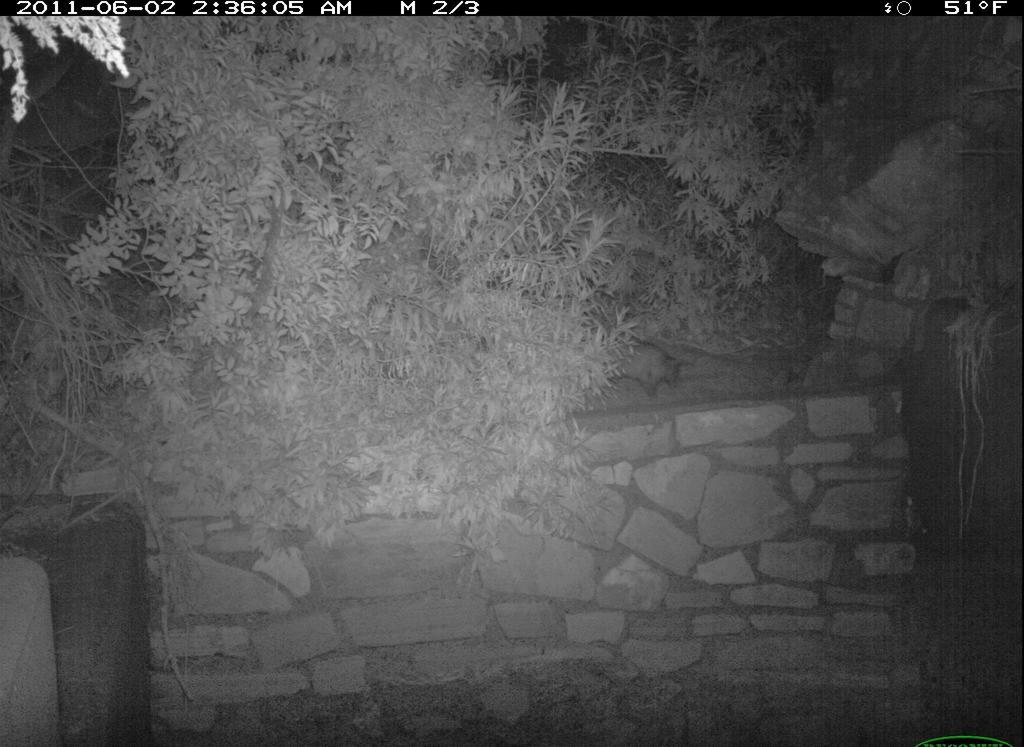opossum: (585, 321, 689, 408)
